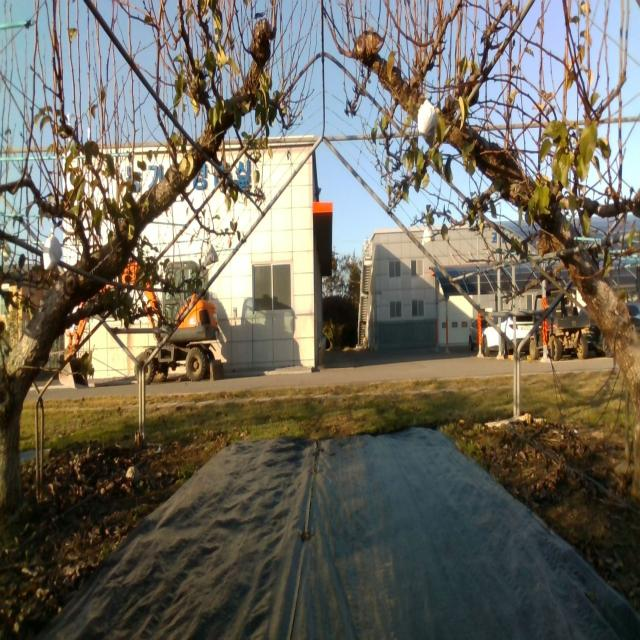pearbags: (418, 100, 437, 148), (43, 228, 63, 273), (204, 240, 218, 268), (421, 224, 437, 248)
